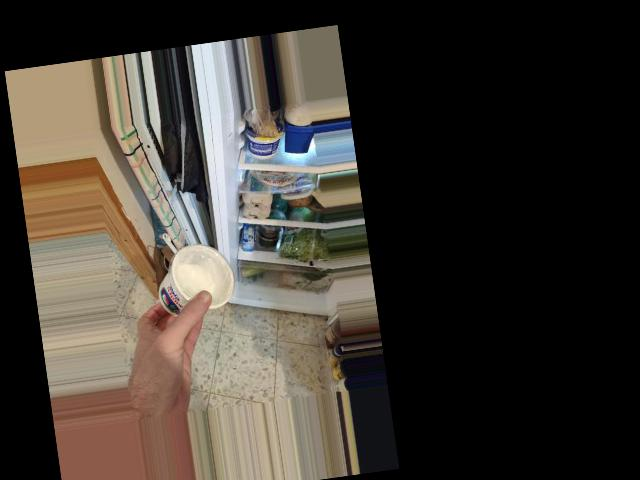cotage: (146, 235, 236, 324)
